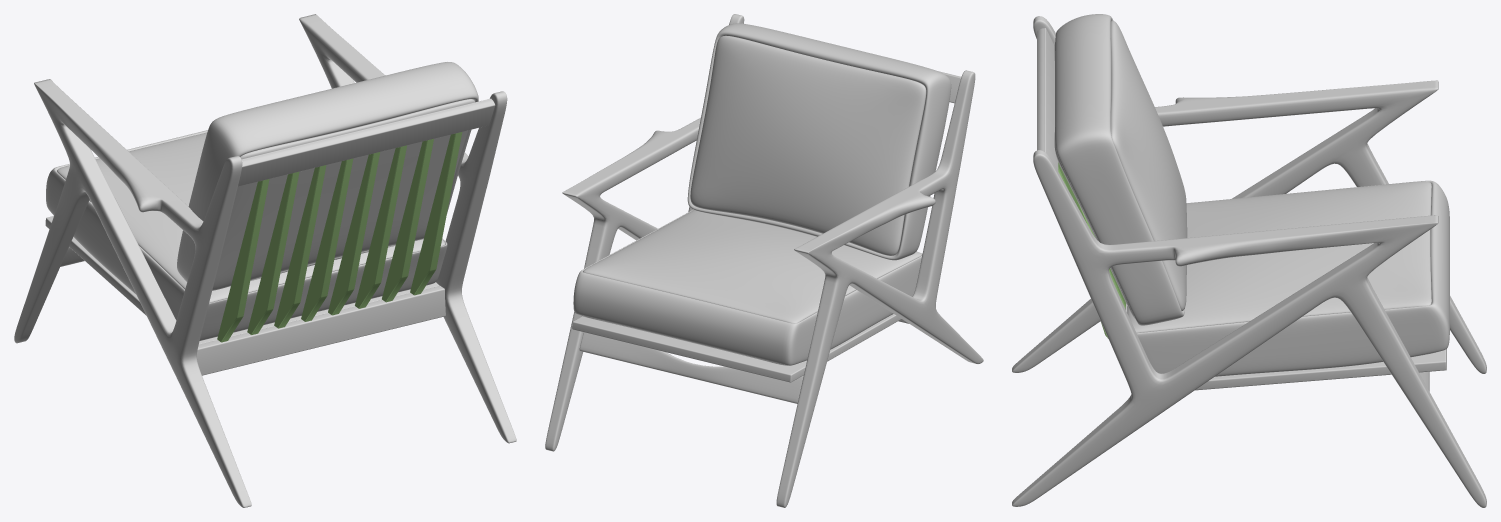
Rendered from chaird.glb.
3 views of the same model, side by side, from view 1: azimuth 30°, elevation 25°; view 2: azimuth 150°, elevation 25°; view 3: azimuth 270°, elevation 25° (orthographic). The views are drawn at different scales.
Parts seen in each view (by area): view 1: cushions, legs, Dandi, supports, base; view 2: cushions, legs, supports, base; view 3: cushions, legs, base, supports.
Boxes of the visible parts, x1,y1,x2,y2 form: cushions: (46,62,478,340); legs: (14,14,516,507); Dandi: (217,132,462,342); supports: (60,98,495,375); base: (45,216,439,344); cushions: (573,23,951,365); legs: (545,14,983,507); supports: (579,23,961,403); base: (572,314,901,382); cushions: (1054,14,1449,376); legs: (1012,16,1486,507); base: (1195,349,1446,390); supports: (1037,28,1429,391).
Size of the model in its own units: 1.8 by 1.9 by 2.22.
